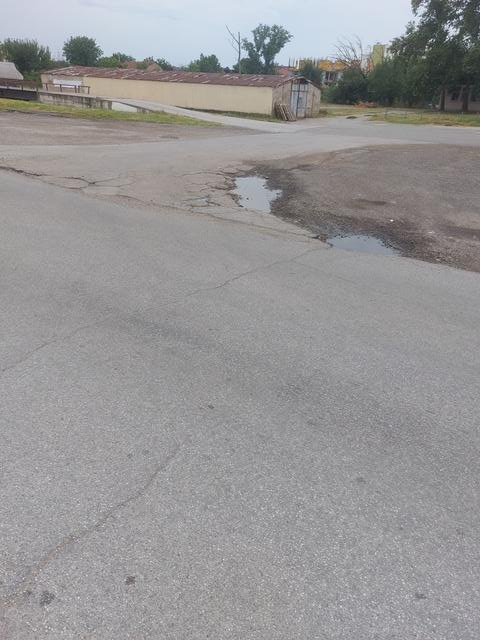pothole: (301, 210, 406, 285), (222, 146, 306, 235)
